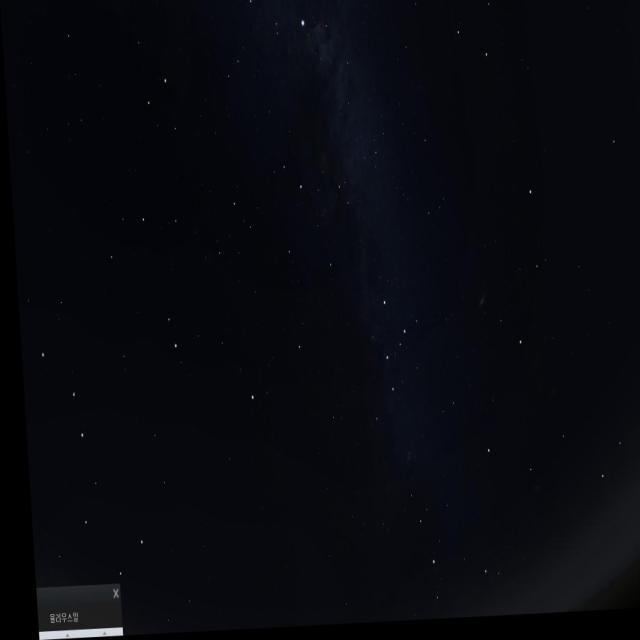cassiopeia: (350, 286, 414, 441)
ursa_major: (31, 332, 139, 586)
